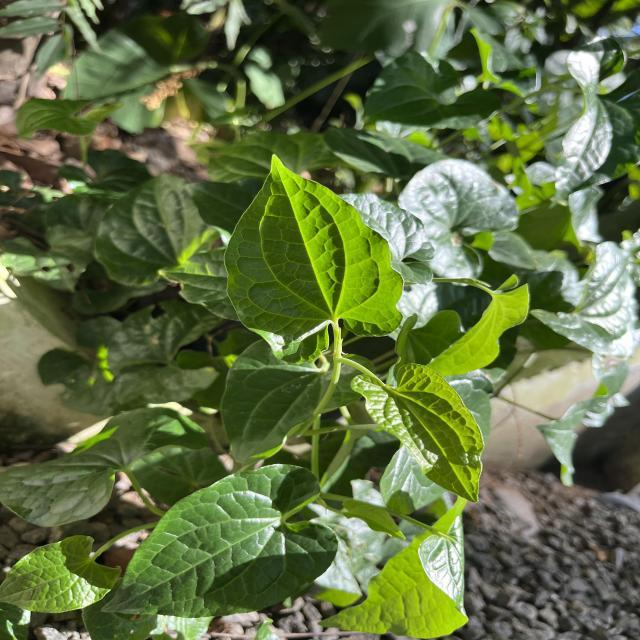Piper longum: (218, 152, 408, 366), (99, 462, 342, 621), (348, 360, 487, 507), (0, 532, 123, 615)
